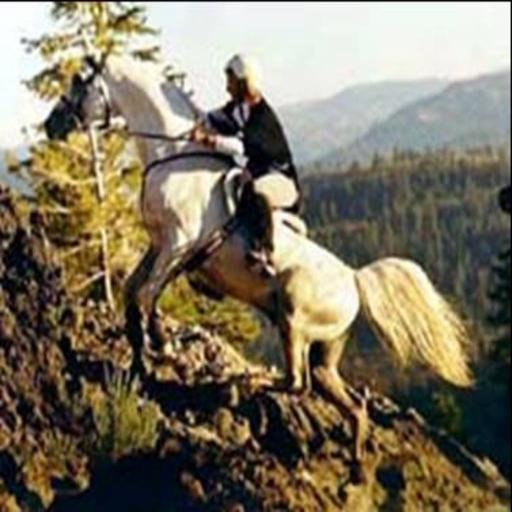horse: (43, 34, 481, 482)
